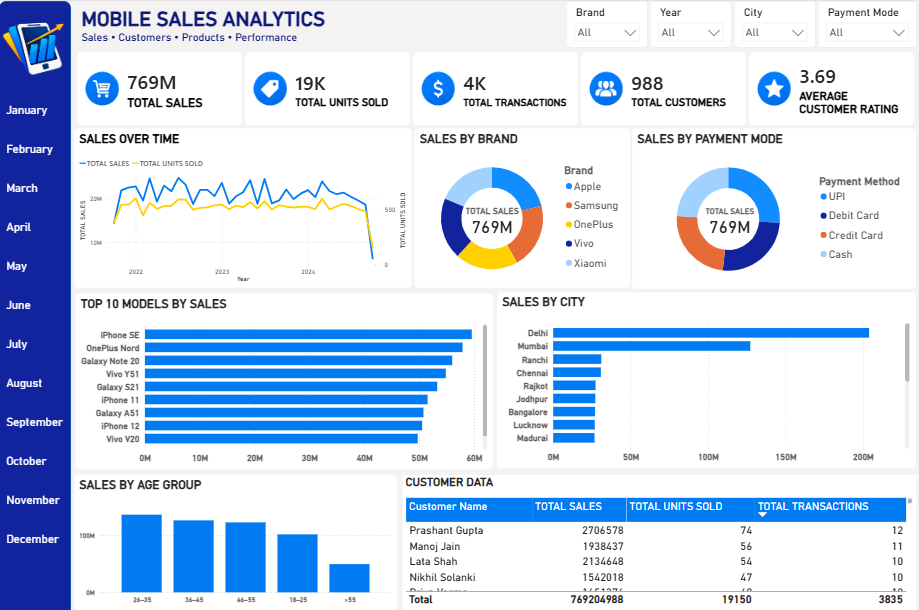

What the dashboard file says about the page in this screenshot:
{"tool":"powerbi","page":{"name":"Dashboard","canvas":[1536,1024],"ordinal":0},"visuals":[{"type":"shape","box":[0,0,120,1025],"z":0,"group":"g3"},{"type":"textbox","title":"MOBILE SALES ANALYTICS","box":[133.3,10,696.7,70],"z":1000,"group":"g3"},{"type":"advancedSlicerVisual","fields":{"Values":["custom data calendar.Date.Variation.Date Hierarchy.Month"]},"box":[0,157.5,120,787.5],"z":2000,"group":"g3"},{"type":"slicer","fields":{"Values":["Sheet1.Brand"]},"box":[944.8,0,136.2,77.5],"z":3000,"group":"g3"},{"type":"cardVisual","fields":{"Data":["Sheet1.TOTAL SALES","Sheet1.TOTAL UNITS SOLD","Sheet1.TOTAL TRANSACTIONS","Sheet1.TOTAL CUSTOMERS","Sheet1.Average Customer Rating"]},"box":[126,80,1408,132],"z":4000,"group":"g3"},{"type":"slicer","fields":{"Values":["Sheet1.City"]},"box":[1224.5,0,135.8,77.5],"z":5000,"group":"g3"},{"type":"lineChart","title":"SALES OVER TIME","fields":{"Y2":["Sheet1.TOTAL UNITS SOLD"],"Category":["custom data calendar.Date.Variation.Date Hierarchy.Year","custom data calendar.Date.Variation.Date Hierarchy.Month"],"Y":["Sheet1.TOTAL SALES"]},"box":[125,213,563,265],"z":6000,"group":"g3"},{"type":"slicer","fields":{"Values":["custom data calendar.Date.Variation.Date Hierarchy.Year"]},"box":[1084.5,0,135.8,77.5],"z":7000,"group":"g3"},{"type":"slicer","fields":{"Values":["Sheet1.Payment Method"]},"box":[1364,0,164,78],"z":8000,"group":"g3"},{"type":"clusteredBarChart","title":"SALES BY CITY","fields":{"Category":["Sheet1.City"],"Y":["Sheet1.TOTAL SALES"]},"box":[830,485.7,697.1,294.3],"z":9000,"group":"g3"},{"type":"donutChart","title":"SALES BY PAYMENT MODE","fields":{"Y":["Sheet1.TOTAL SALES"],"Category":["Sheet1.Payment Method"]},"box":[1055.3,212.5,472.5,267.5],"z":10000,"group":"g1"},{"type":"donutChart","title":"SALES BY BRAND","fields":{"Category":["Sheet1.Brand"],"Y":["Sheet1.TOTAL SALES"]},"box":[693,213,359,265],"z":10000,"group":"g2"},{"type":"clusteredBarChart","title":"TOP 10 MODELS BY SALES","fields":{"Y":["Sheet1.TOTAL SALES"],"Category":["Sheet1.Mobile Model"]},"box":[127.1,487.1,695.7,292.9],"z":10000,"group":"g3"},{"type":"cardVisual","fields":{"Data":["Sheet1.TOTAL SALES"]},"box":[1099.8,311.5,236.1,111.3],"z":11000,"group":"g1"},{"type":"cardVisual","fields":{"Data":["Sheet1.TOTAL SALES"]},"box":[734,312,179.5,110.4],"z":11000,"group":"g2"},{"type":"clusteredColumnChart","title":"SALES BY AGE GROUP","fields":{"Category":["Sheet1.Age Group"],"Y":["Sheet1.TOTAL SALES"]},"box":[125.6,790,538.9,225.6],"z":11000,"group":"g3"},{"type":"tableEx","title":"CUSTOMER DATA","fields":{"Values":["Sheet1.Customer Name","Sheet1.TOTAL SALES","Sheet1.TOTAL UNITS SOLD","Sheet1.TOTAL TRANSACTIONS"]},"box":[672.5,790,855,225],"z":12000,"group":"g3"},{"type":"group","id":"g1","title":"Group 4","box":[1055.3,212.5,472.5,267.5],"z":13000,"group":"g3"},{"type":"group","id":"g2","title":"Group 2","box":[693,213,359,265],"z":14000,"group":"g3"},{"type":"image","box":[0,0,120,157.5],"z":15000,"group":"g3"},{"type":"group","id":"g3","title":"Group 1","box":[0,0,1534,1025],"z":15001}]}

Visuals, with their boxes on the page's 1536x1024 design canvas (x1, y1, x2, y2). These are canvas units, not pixel positions in the 919x610 screenshot, which may show the page scaled, cropped or inside an application window:
shape: {"left": 0, "top": 0, "right": 120, "bottom": 1025}
"MOBILE SALES ANALYTICS" textbox: {"left": 133, "top": 10, "right": 830, "bottom": 80}
advancedSlicerVisual - custom data calendar.Date.Variation.Date Hierarchy.Month: {"left": 0, "top": 158, "right": 120, "bottom": 945}
slicer - Sheet1.Brand: {"left": 945, "top": 0, "right": 1081, "bottom": 78}
cardVisual - Sheet1.TOTAL SALES x Sheet1.TOTAL UNITS SOLD: {"left": 126, "top": 80, "right": 1534, "bottom": 212}
slicer - Sheet1.City: {"left": 1224, "top": 0, "right": 1360, "bottom": 78}
"SALES OVER TIME" lineChart: {"left": 125, "top": 213, "right": 688, "bottom": 478}
slicer - custom data calendar.Date.Variation.Date Hierarchy.Year: {"left": 1084, "top": 0, "right": 1220, "bottom": 78}
slicer - Sheet1.Payment Method: {"left": 1364, "top": 0, "right": 1528, "bottom": 78}
"SALES BY CITY" clusteredBarChart: {"left": 830, "top": 486, "right": 1527, "bottom": 780}
"SALES BY PAYMENT MODE" donutChart: {"left": 1055, "top": 212, "right": 1528, "bottom": 480}
"SALES BY BRAND" donutChart: {"left": 693, "top": 213, "right": 1052, "bottom": 478}
"TOP 10 MODELS BY SALES" clusteredBarChart: {"left": 127, "top": 487, "right": 823, "bottom": 780}
cardVisual - Sheet1.TOTAL SALES: {"left": 1100, "top": 312, "right": 1336, "bottom": 423}
cardVisual - Sheet1.TOTAL SALES: {"left": 734, "top": 312, "right": 914, "bottom": 422}
"SALES BY AGE GROUP" clusteredColumnChart: {"left": 126, "top": 790, "right": 664, "bottom": 1016}
"CUSTOMER DATA" tableEx: {"left": 672, "top": 790, "right": 1528, "bottom": 1015}
"Group 4" group: {"left": 1055, "top": 212, "right": 1528, "bottom": 480}
"Group 2" group: {"left": 693, "top": 213, "right": 1052, "bottom": 478}
image: {"left": 0, "top": 0, "right": 120, "bottom": 158}
"Group 1" group: {"left": 0, "top": 0, "right": 1534, "bottom": 1025}
